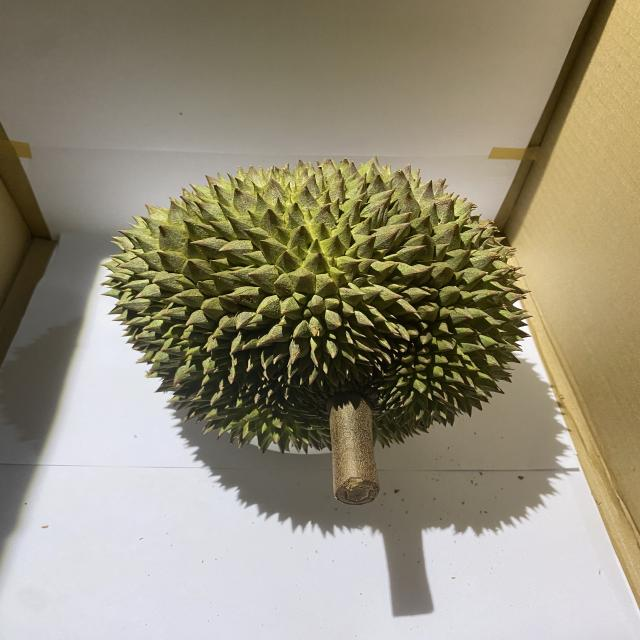immature: (100, 159, 533, 451)
